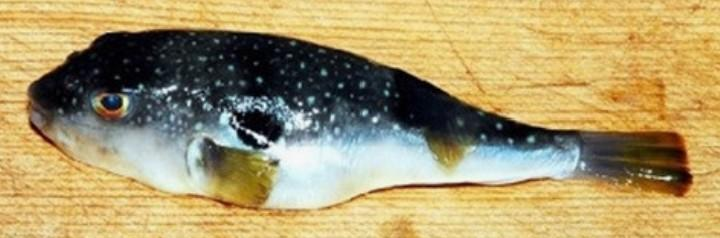fish: (29, 30, 690, 208)
